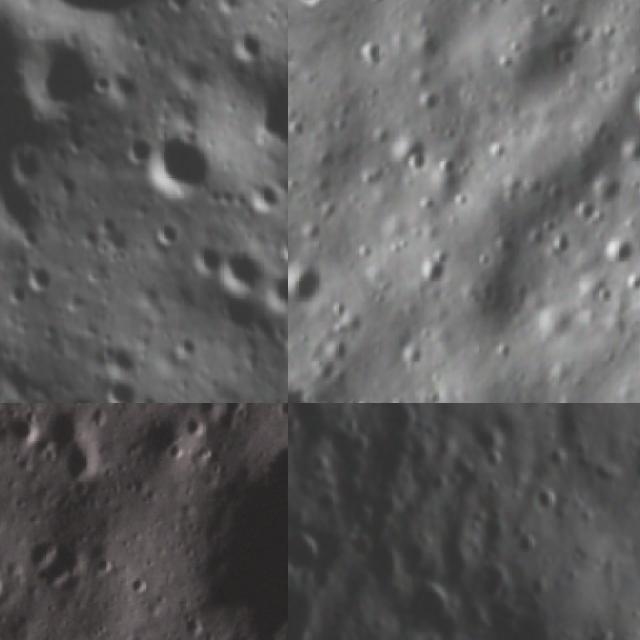crater: (209, 464, 288, 632), (130, 126, 222, 214), (228, 77, 288, 154), (401, 579, 466, 635), (207, 243, 268, 302), (288, 246, 338, 315), (320, 293, 378, 352), (343, 28, 398, 83), (390, 130, 444, 184), (590, 218, 640, 276), (388, 328, 436, 375), (407, 78, 452, 124), (116, 130, 161, 175), (613, 72, 640, 147), (182, 236, 227, 280), (254, 265, 288, 323), (329, 416, 371, 458), (17, 257, 57, 299), (229, 28, 269, 69), (364, 540, 401, 584), (288, 526, 321, 572), (288, 384, 363, 403), (145, 215, 183, 252), (98, 371, 141, 403), (379, 403, 416, 436), (524, 483, 560, 514), (82, 68, 115, 100), (12, 411, 36, 454), (52, 386, 110, 403), (125, 28, 154, 57), (540, 444, 568, 472), (480, 446, 506, 476), (514, 530, 540, 558), (376, 494, 397, 520), (588, 626, 622, 640), (628, 508, 640, 528)
